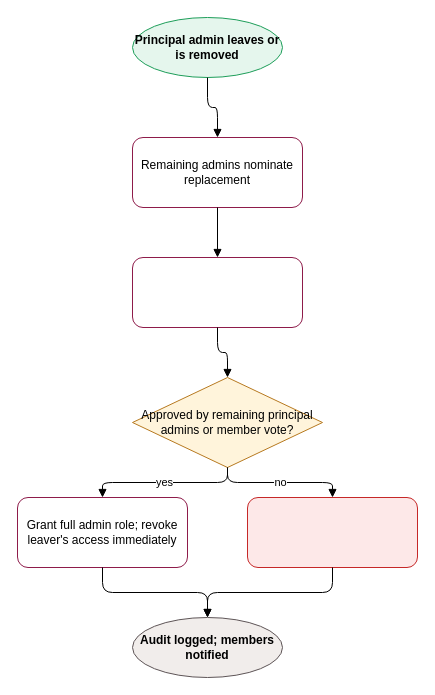
Some shapes in this 435 by 695 pixel diagram are drawn without their labels. The centre of each missing label's shape, as x and y in pixels:
"Nominee verifies identity (BVN, NIN, liveness)" goes at point (217, 292).
"Not approved: keep minimum admins; restrict risky actions" goes at point (332, 532).
